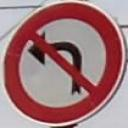NoVirarEsquerda: (4, 2, 127, 127)
